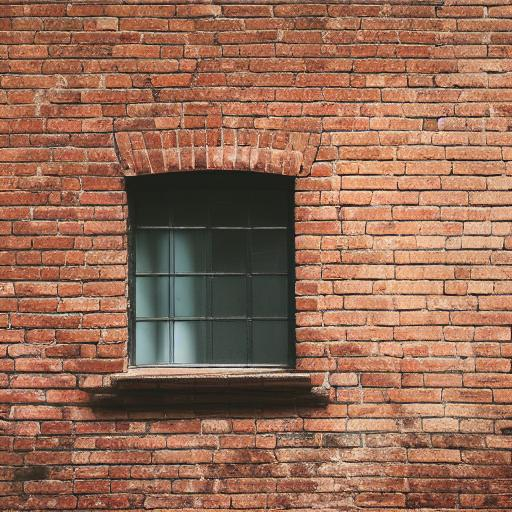Window: (99, 127, 330, 408)
